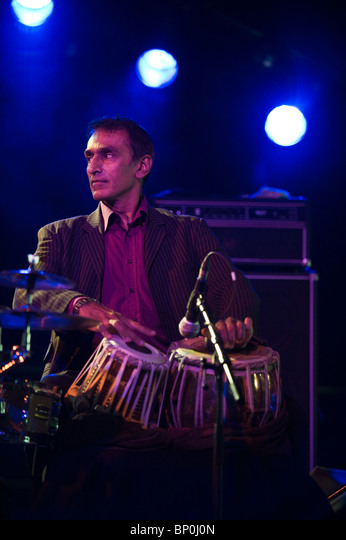tabla: (167, 339, 282, 440), (68, 335, 166, 440)
